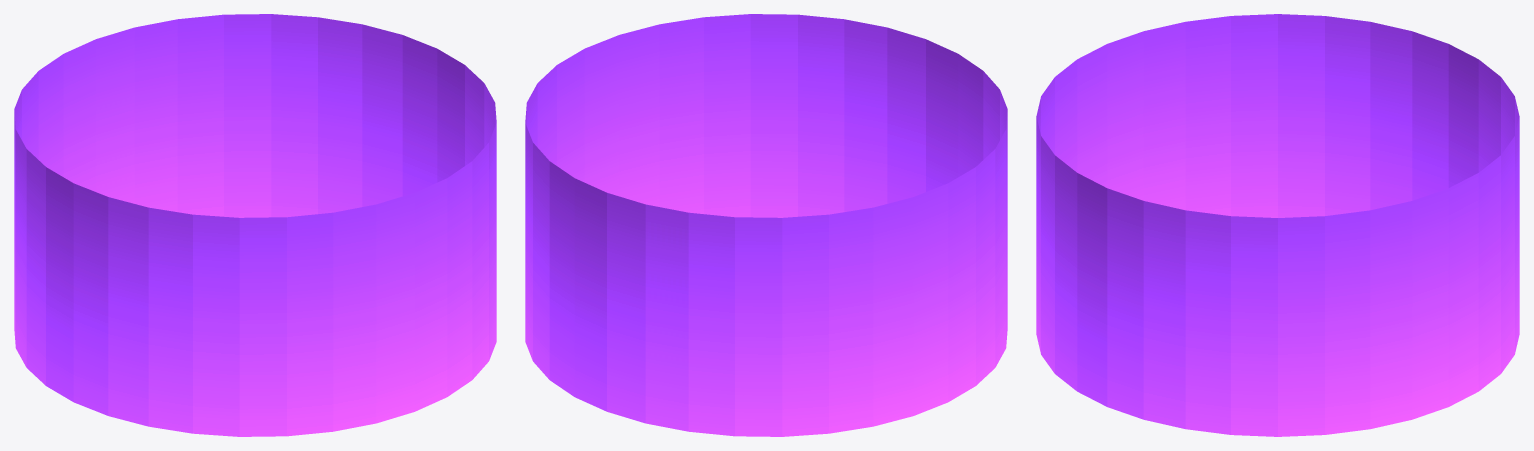
Rendered from lb_beam_6.glb.
The picture shows the model from 3 angles, left to right: view 1: azimuth 30°, elevation 25°; view 2: azimuth 150°, elevation 25°; view 3: azimuth 270°, elevation 25°; orthographic projection.
Visible parts, largest first — view 1: lb_beam_6; view 2: lb_beam_6; view 3: lb_beam_6.
Boxes of the visible parts, x1,y1,x2,y2 form: lb_beam_6: (14,14,496,436); lb_beam_6: (525,14,1007,436); lb_beam_6: (1036,14,1519,436).
Bounding box in the file's own units: 2 × 1 × 2.
1 material, 1 textured.
